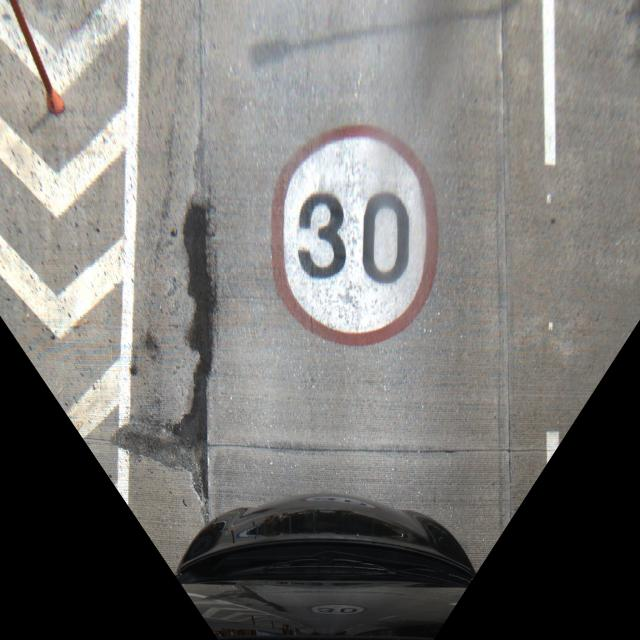30limit: (129, 81, 566, 425)
